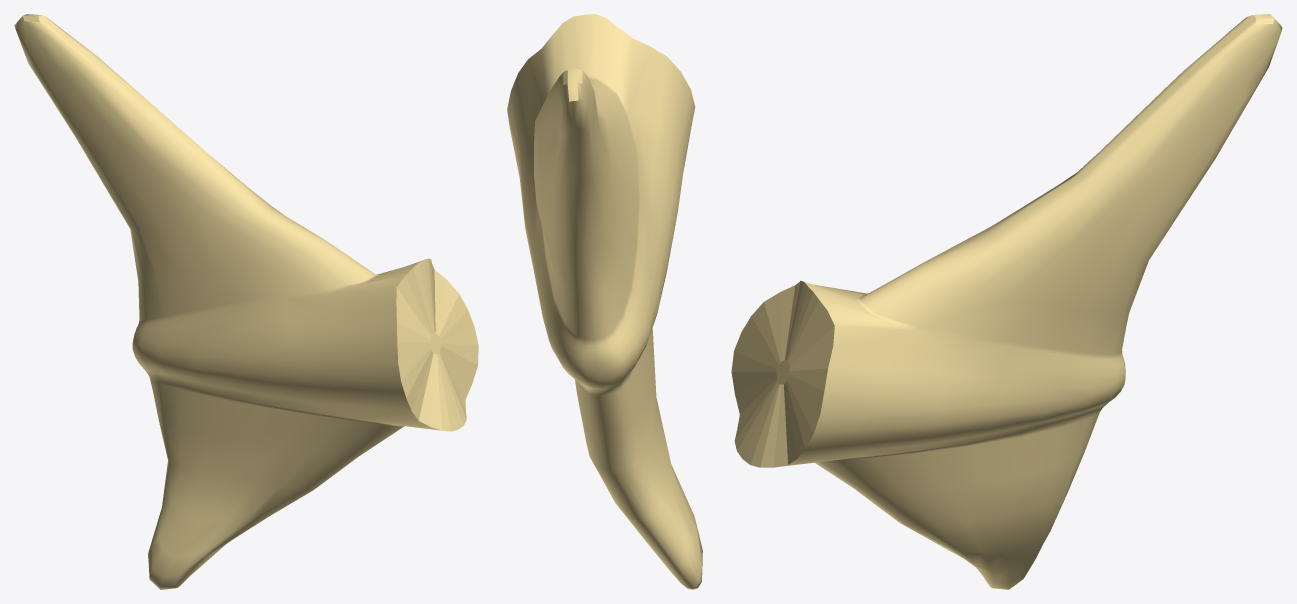
The model's file is Sacabambaspis_Tail_2_Fake.fbx.
3 renders of one model, left to right at view 1: azimuth 30°, elevation 25°; view 2: azimuth 150°, elevation 25°; view 3: azimuth 270°, elevation 25°, orthographic. The views are drawn at different scales.
Parts seen in each view (by area): view 1: polySurface3; view 2: polySurface3; view 3: polySurface3.
Part boxes in pixels (box(x1,y1,x2,y2)): polySurface3: box(14, 14, 478, 589); polySurface3: box(507, 14, 702, 589); polySurface3: box(731, 14, 1282, 589).
Size of the model in its own units: 31.16 by 56.81 by 50.22.
